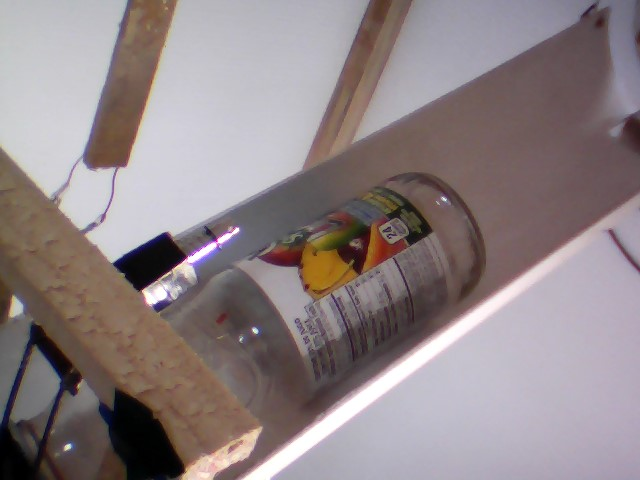vidrio: (170, 168, 494, 418)
